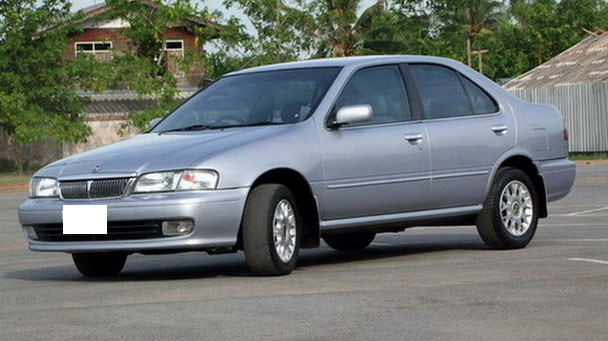sedan: (15, 53, 576, 279)
